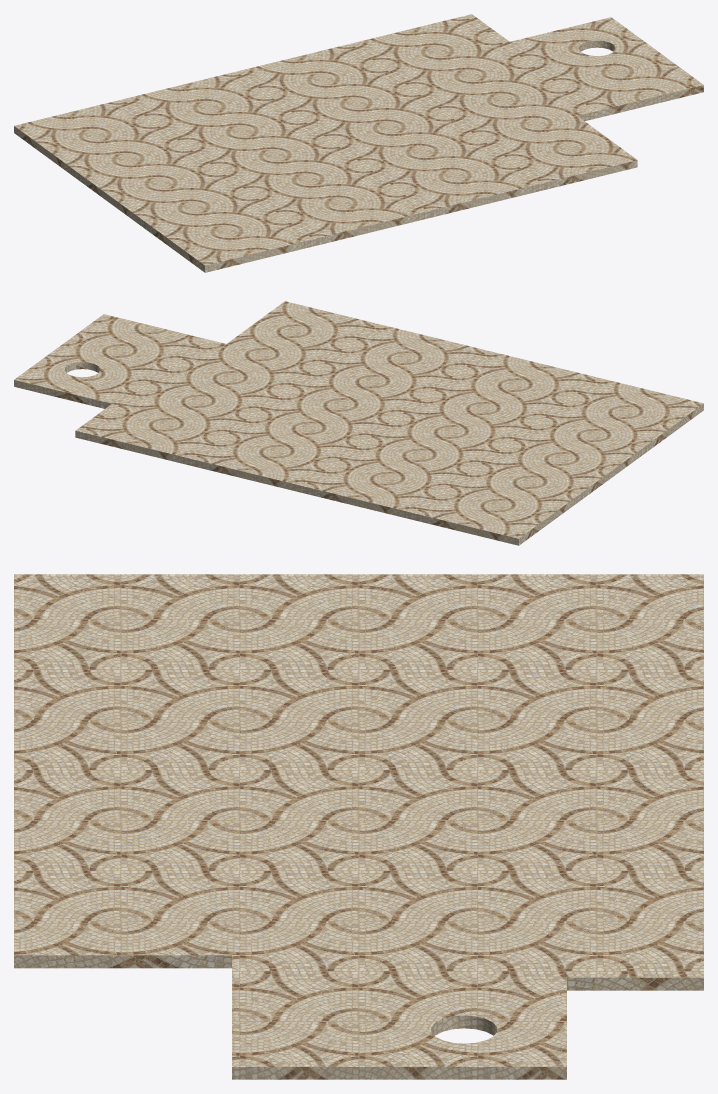
File: Floor.FBX
The picture shows the model from 3 angles, top to bottom: view 1: azimuth 30°, elevation 25°; view 2: azimuth 150°, elevation 25°; view 3: azimuth 270°, elevation 25°; orthographic projection. The views are drawn at different scales.
Visible parts, largest first — view 1: Box002; view 2: Box002; view 3: Box002.
Part boxes in pixels (x1=…): Box002: x1=14, y1=14, x2=703, y2=272; Box002: x1=14, y1=301, x2=703, y2=545; Box002: x1=14, y1=574, x2=703, y2=1079.
Size of the model in its own units: 245 by 3 by 145.
1 material, 1 textured.
